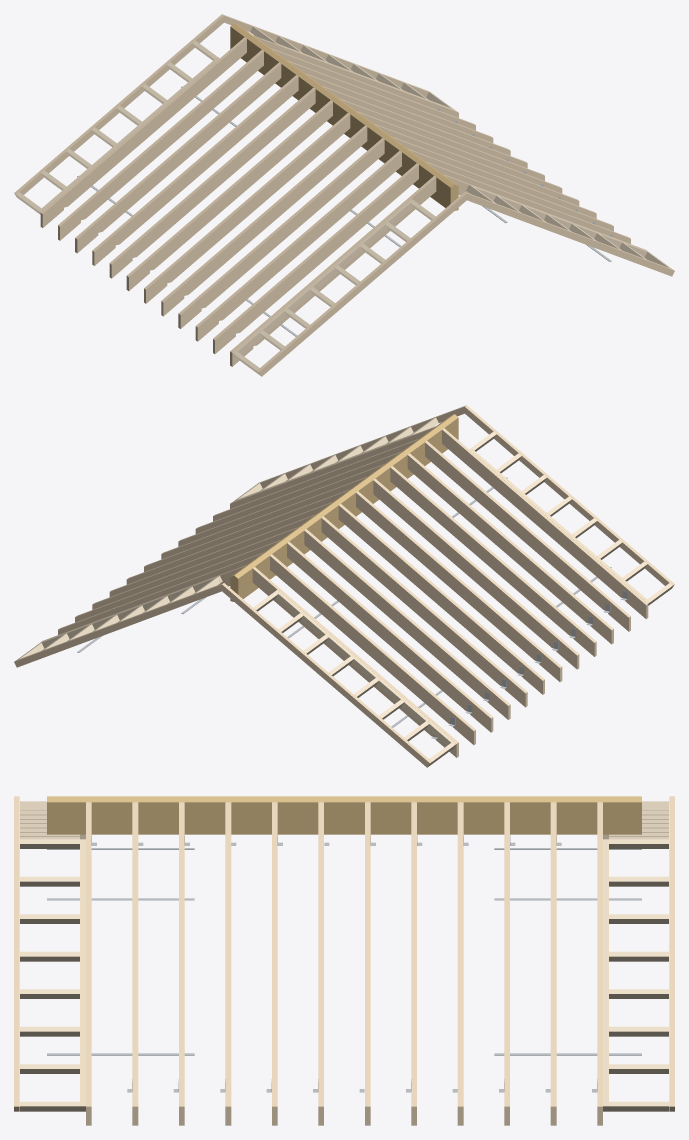
Rendered from stage-4.glb.
The picture shows the model from 3 angles, top to bottom: view 1: azimuth 30°, elevation 25°; view 2: azimuth 150°, elevation 25°; view 3: azimuth 270°, elevation 25°; orthographic projection. The views are drawn at different scales.
Visible parts, largest first — view 1: Geom3D_R02 common 47 x 147 C24 L3051, Geom3D_OR28 outrigger 47 x 72 C24 L488, Geom3D_GB01 ridge beam 100 x 320 GL24h L5361, Geom3D_LR27 ladder rail 47 x 72 C24 L2629, Geom3D_TCP47 clip; view 2: Geom3D_R02 common 47 x 147 C24 L3051, Geom3D_OR28 outrigger 47 x 72 C24 L488, Geom3D_GB01 ridge beam 100 x 320 GL24h L5361, Geom3D_LR27 ladder rail 47 x 72 C24 L2629, Geom3D_TCP47 clip; view 3: Geom3D_R02 common 47 x 147 C24 L3051, Geom3D_GB01 ridge beam 100 x 320 GL24h L5361, Geom3D_OR28 outrigger 47 x 72 C24 L488, Geom3D_LR27 ladder rail 47 x 72 C24 L2629, Geom3D_TCP47 clip.
Boxes of the visible parts, left/top/right/bottom form: Geom3D_R02 common 47 x 147 C24 L3051: left=14, top=14, right=674, bottom=376; Geom3D_OR28 outrigger 47 x 72 C24 L488: left=16, top=26, right=671, bottom=374; Geom3D_GB01 ridge beam 100 x 320 GL24h L5361: left=230, top=23, right=458, bottom=210; Geom3D_LR27 ladder rail 47 x 72 C24 L2629: left=38, top=43, right=649, bottom=358; Geom3D_TCP47 clip: left=77, top=86, right=612, bottom=336; Geom3D_R02 common 47 x 147 C24 L3051: left=14, top=405, right=674, bottom=767; Geom3D_OR28 outrigger 47 x 72 C24 L488: left=17, top=417, right=672, bottom=765; Geom3D_GB01 ridge beam 100 x 320 GL24h L5361: left=230, top=414, right=458, bottom=601; Geom3D_LR27 ladder rail 47 x 72 C24 L2629: left=39, top=434, right=650, bottom=749; Geom3D_TCP47 clip: left=77, top=477, right=627, bottom=739; Geom3D_R02 common 47 x 147 C24 L3051: left=14, top=796, right=674, bottom=1125; Geom3D_GB01 ridge beam 100 x 320 GL24h L5361: left=47, top=796, right=641, bottom=834; Geom3D_OR28 outrigger 47 x 72 C24 L488: left=20, top=801, right=668, bottom=1111; Geom3D_LR27 ladder rail 47 x 72 C24 L2629: left=80, top=834, right=608, bottom=1111; Geom3D_TCP47 clip: left=47, top=835, right=641, bottom=1092.
Bounding box in the file's own units: 5.26 × 1.72 × 5.36.
